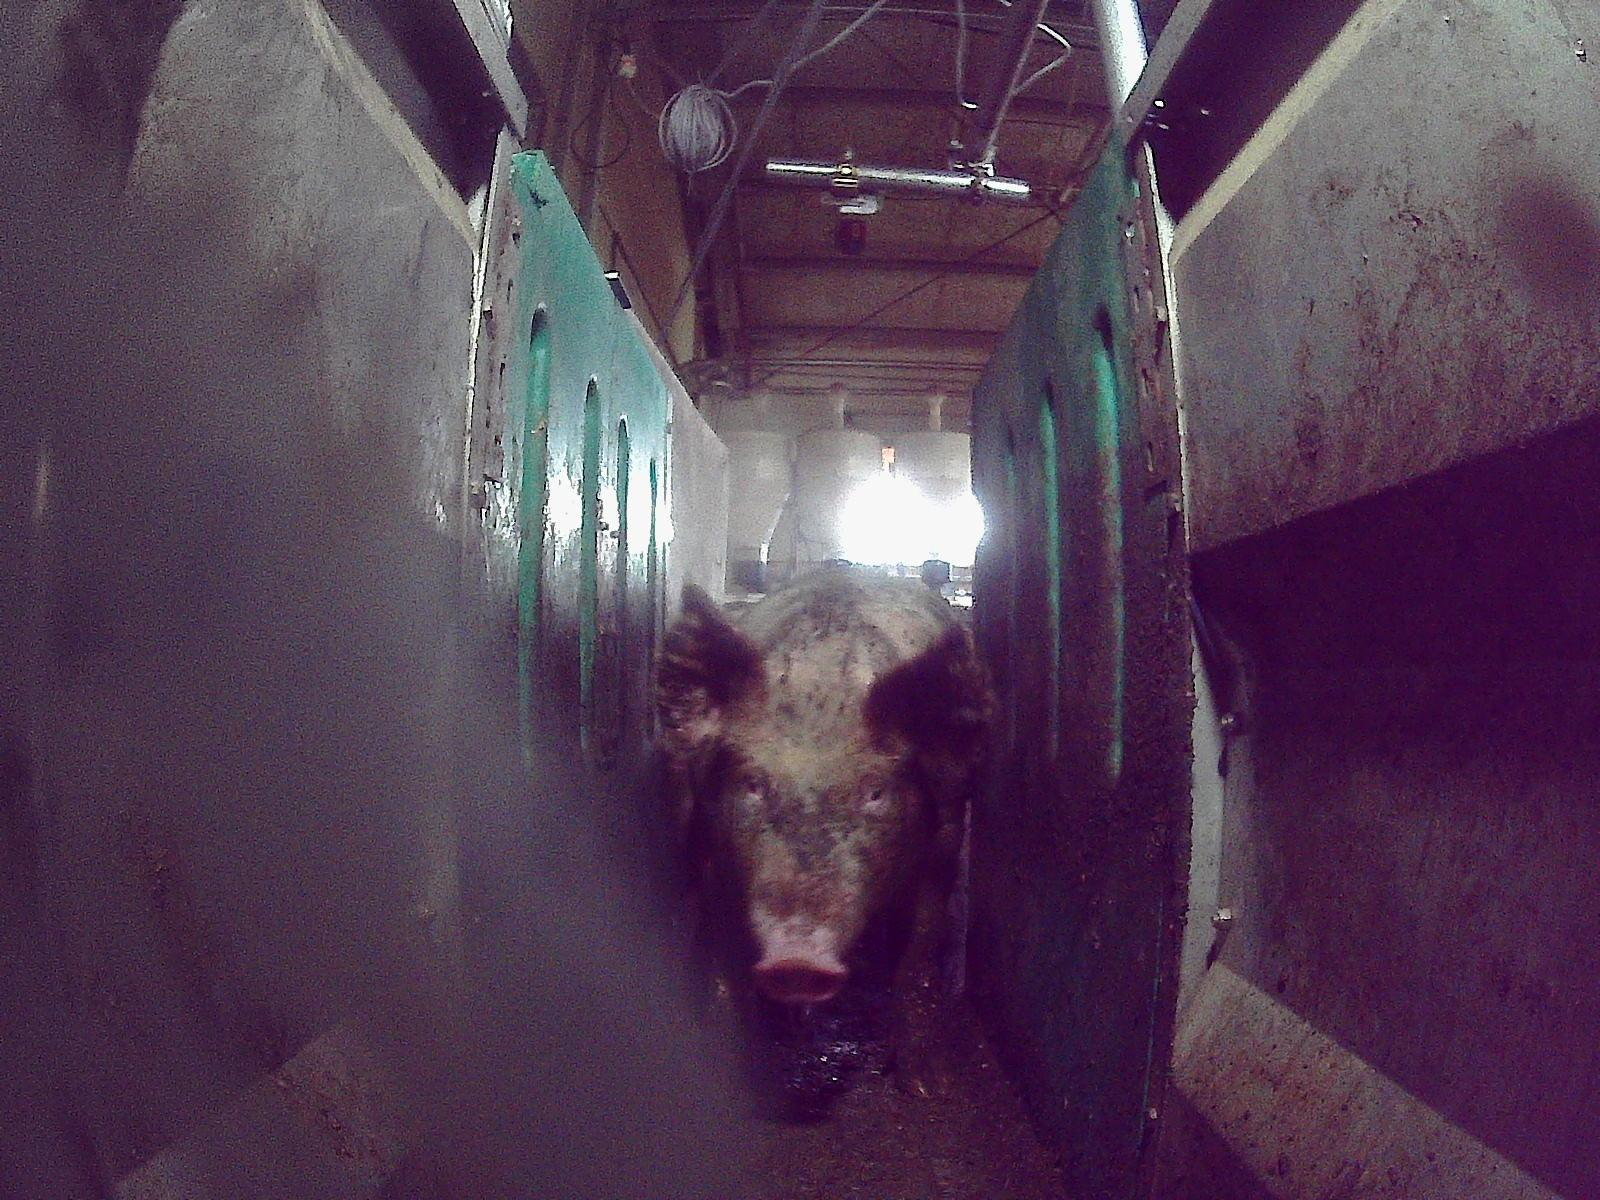Face: (712, 696, 925, 1001)
